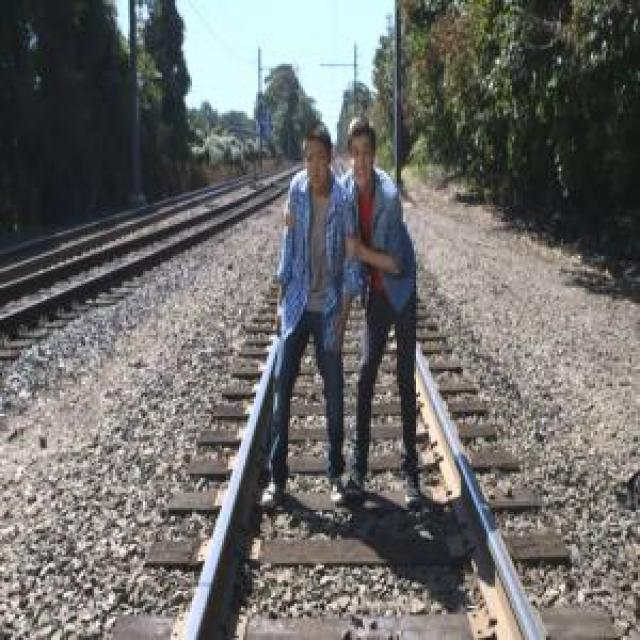danger: (264, 112, 346, 511), (342, 118, 421, 504)
